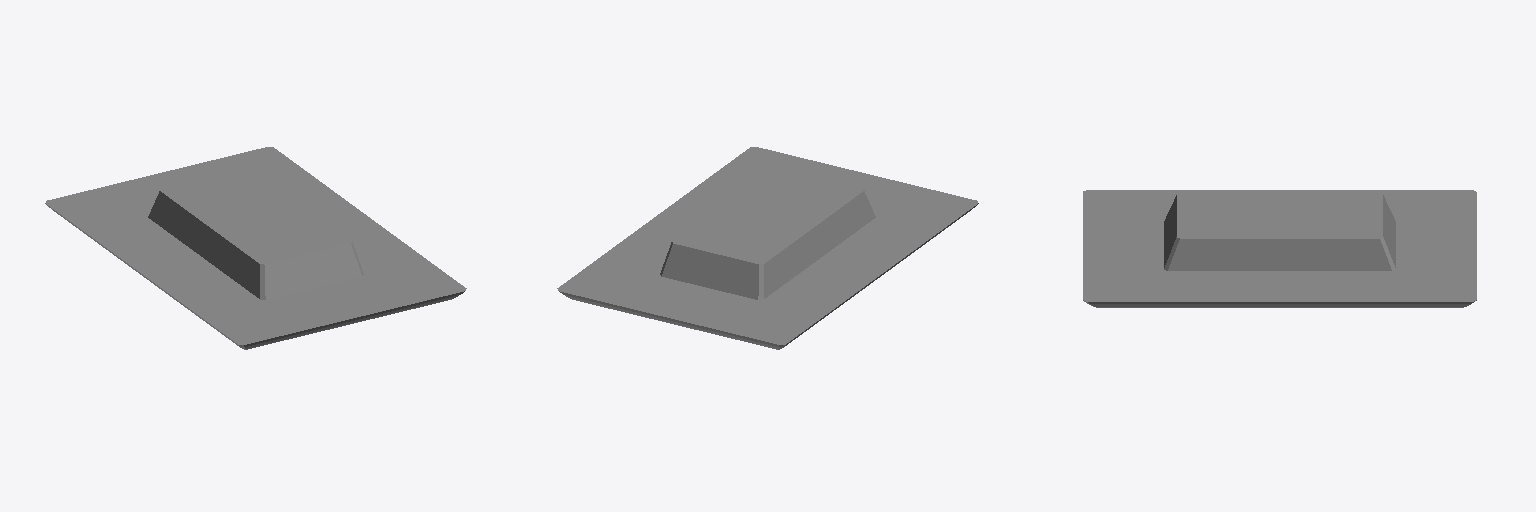
File: lightswitch.obj
The picture shows the model from 3 angles: view 1: azimuth 30°, elevation 25°; view 2: azimuth 150°, elevation 25°; view 3: azimuth 270°, elevation 25°; orthographic projection.
Parts seen in each view (by area): view 1: switchbase_default4; view 2: switchbase_default4; view 3: switchbase_default4.
Boxes of the visible parts, x1=… form: switchbase_default4: x1=45, y1=147, x2=466, y2=349; switchbase_default4: x1=557, y1=147, x2=978, y2=349; switchbase_default4: x1=1083, y1=190, x2=1476, y2=307.
Bounding box in the file's own units: 0.1265 × 0.0422 × 0.1891.